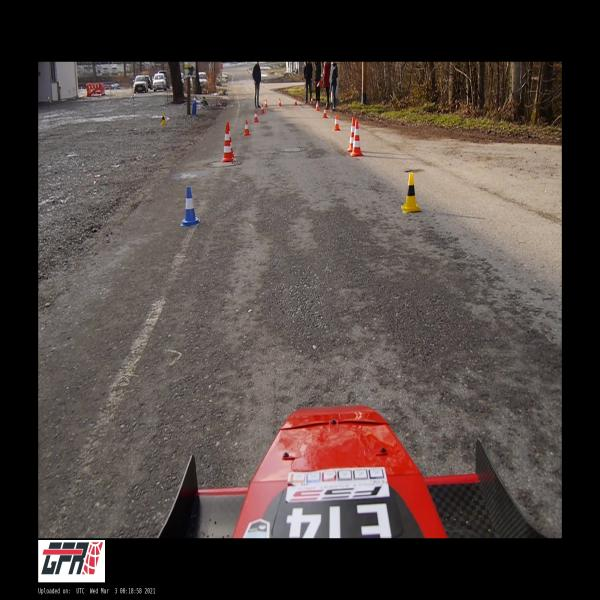blue_cone: (180, 187, 200, 226), (194, 96, 196, 103)
large_orange_cone: (350, 119, 363, 156), (222, 125, 234, 162), (348, 116, 355, 151)
orange_cone: (244, 119, 250, 136), (334, 114, 340, 130), (254, 110, 258, 122), (323, 106, 327, 118), (294, 96, 298, 106), (316, 101, 319, 111), (278, 99, 282, 106), (261, 104, 264, 113), (310, 96, 313, 105), (265, 99, 267, 107)
yellow_cone: (401, 173, 421, 212), (161, 112, 166, 125)
